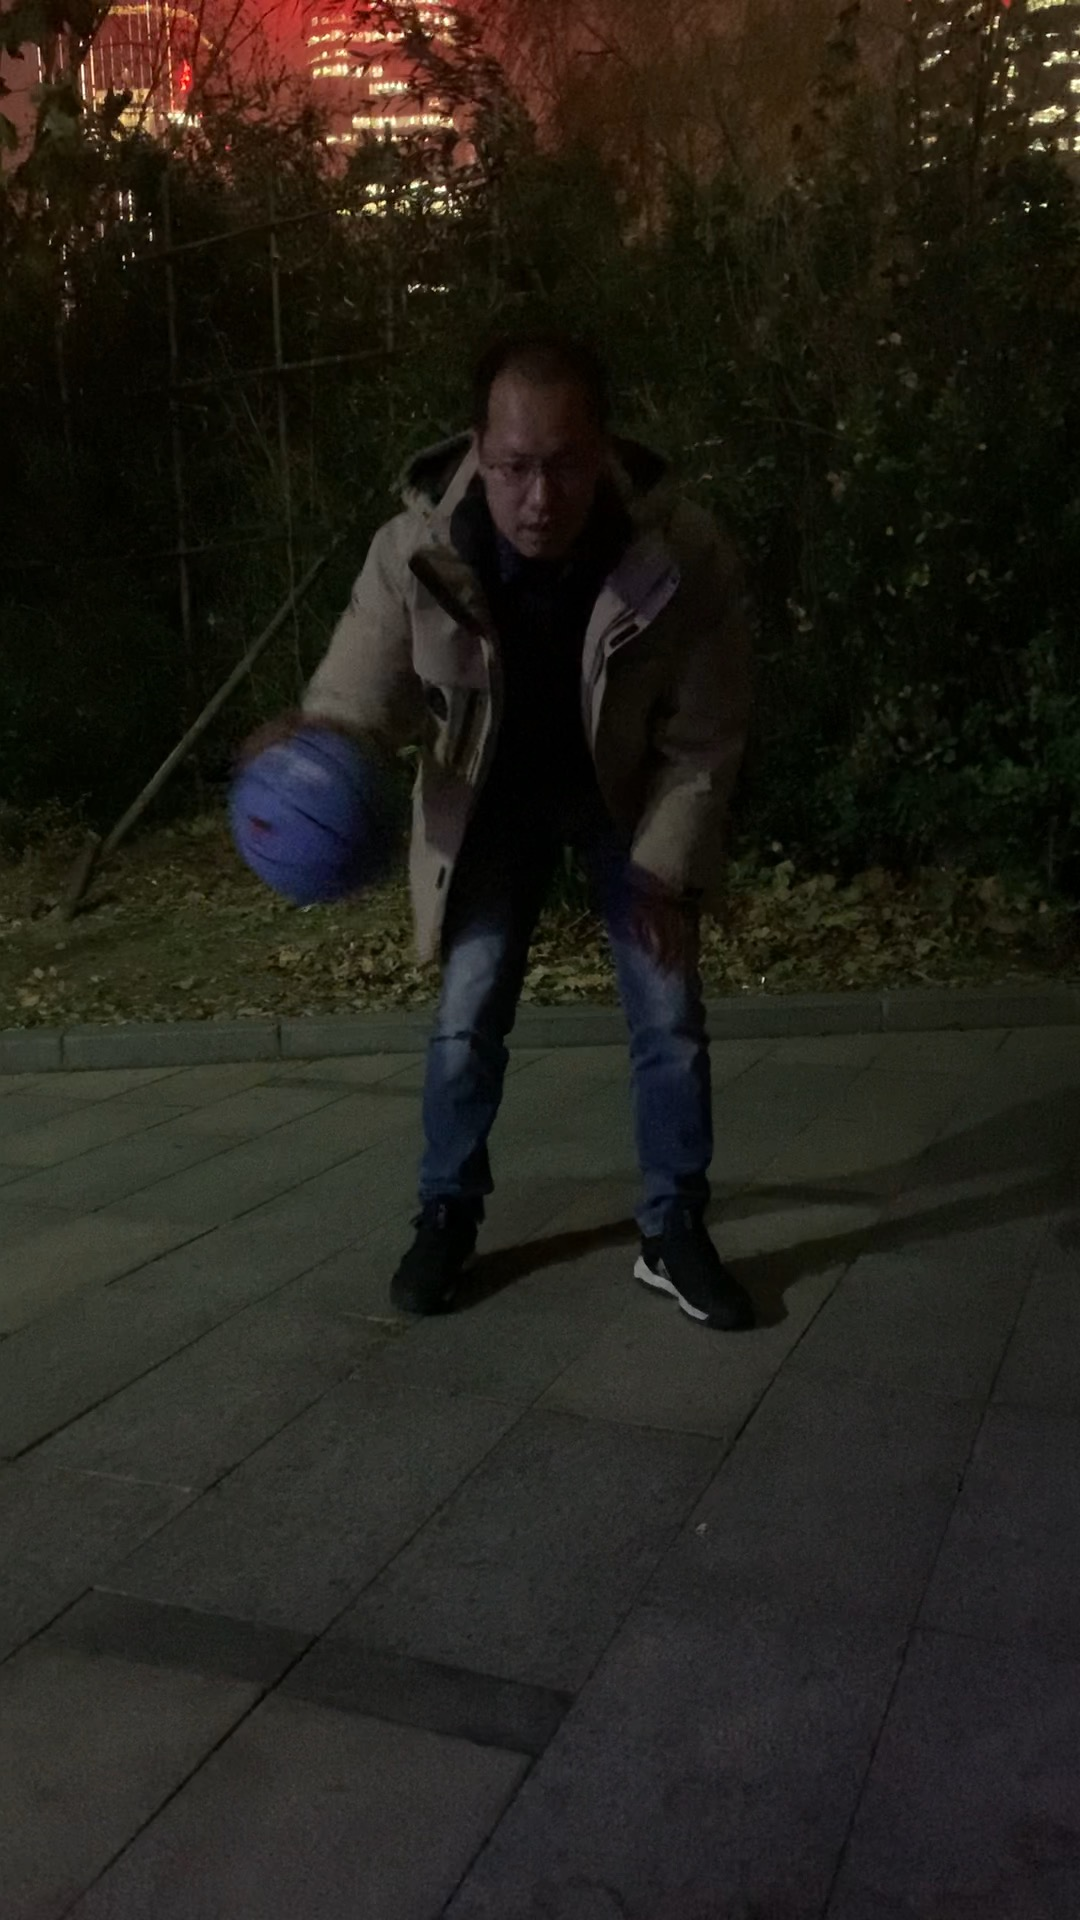ball: (229, 719, 415, 905)
